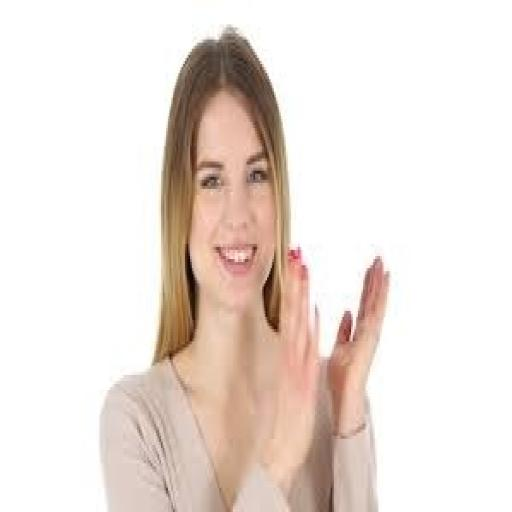clapping: (96, 24, 392, 509)
